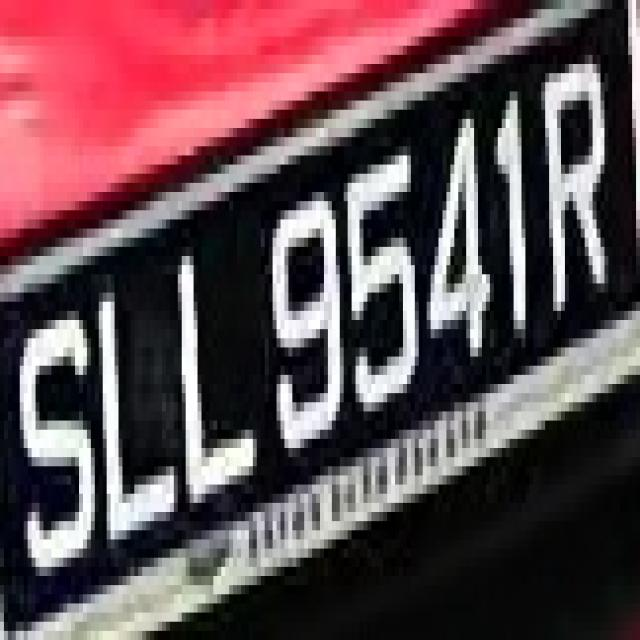1: (490, 46, 537, 411)
4: (407, 73, 490, 393)
5: (336, 119, 423, 411)
9: (264, 165, 352, 448)
L: (170, 247, 253, 548), (91, 256, 170, 549)
R: (530, 55, 616, 366)
S: (12, 274, 99, 631)
